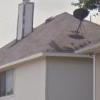Chimney: (11, 2, 34, 39)
